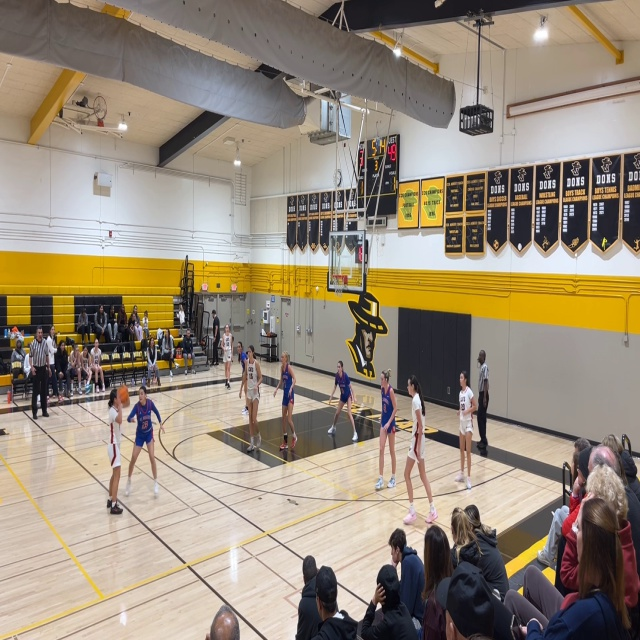Basketball: (117, 386, 129, 404)
